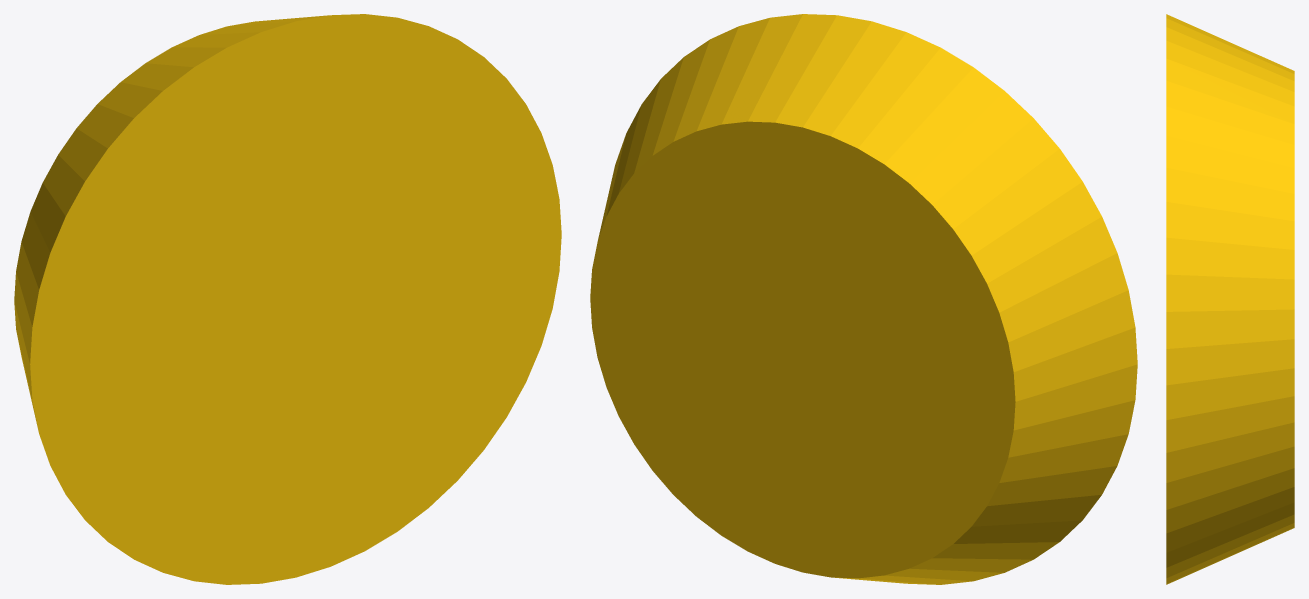
File: Emergency_stop_yellow.obj
3 views of the same model, side by side, from view 1: azimuth 30°, elevation 25°; view 2: azimuth 150°, elevation 25°; view 3: azimuth 270°, elevation 25° (orthographic). The views are drawn at different scales.
Size of the model in its own units: 0.08 by 0.08 by 0.018.
